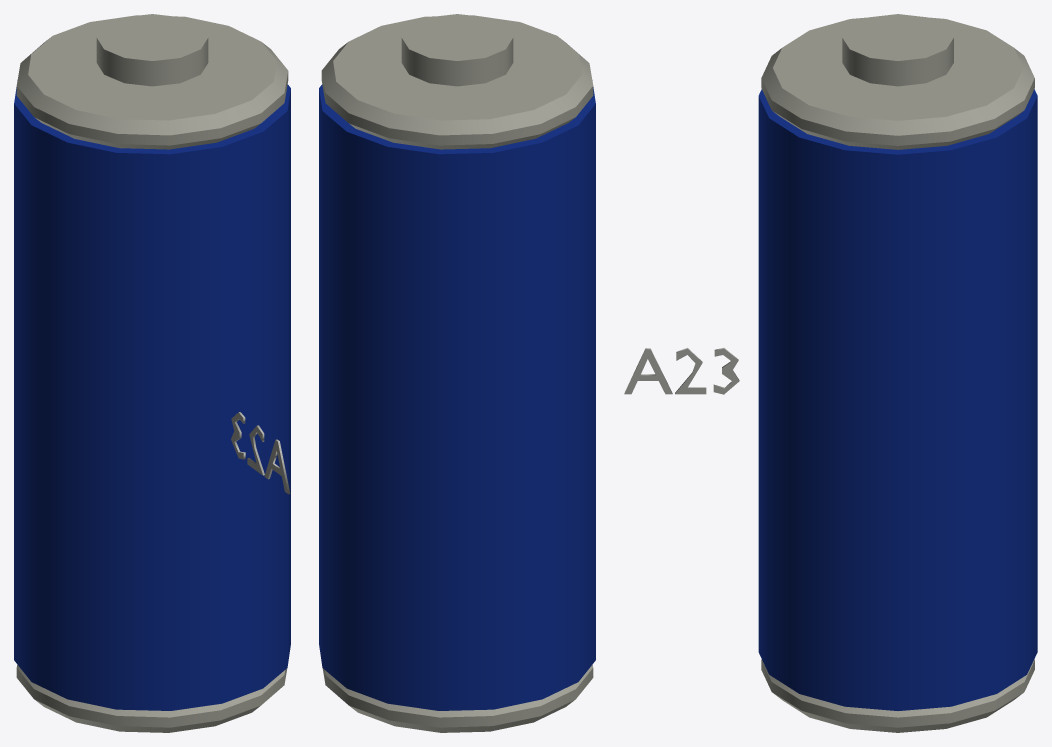
The model's file is a23_battery.obj.
3 views of the same model, side by side, from view 1: azimuth 30°, elevation 25°; view 2: azimuth 150°, elevation 25°; view 3: azimuth 270°, elevation 25° (orthographic).
Bounding box in the file's own units: 0.01 × 0.0254 × 0.0148.
